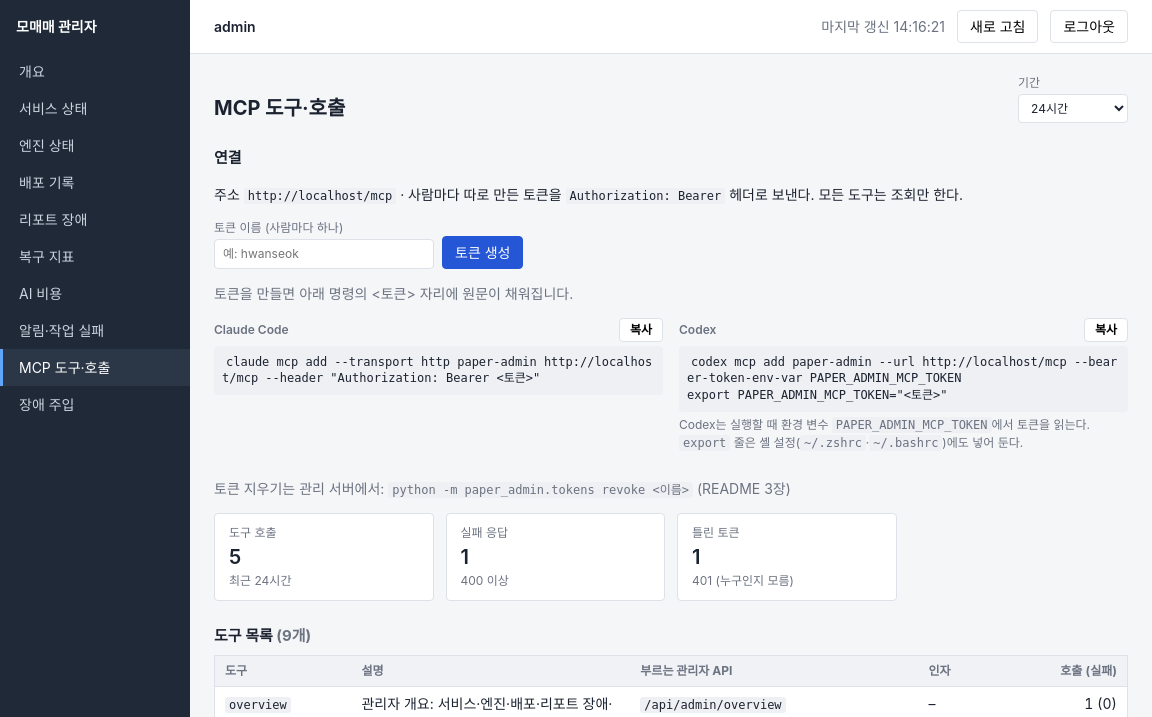
Scenario: MCP 도구·호출 (F10) › 토큰 생성: 원문을 한 번 보이고 Claude·Codex 명령에 채우며, 복사 버튼이 그 명령을 클립보드에 넣는다
Expected: the heading "도구 목록 (9개)" is shown, [214,626,311,645]
Type " newbie " into the field labelled "토큰 이름 (사람마다 하나)" at (324, 254), box [214,238,434,268]
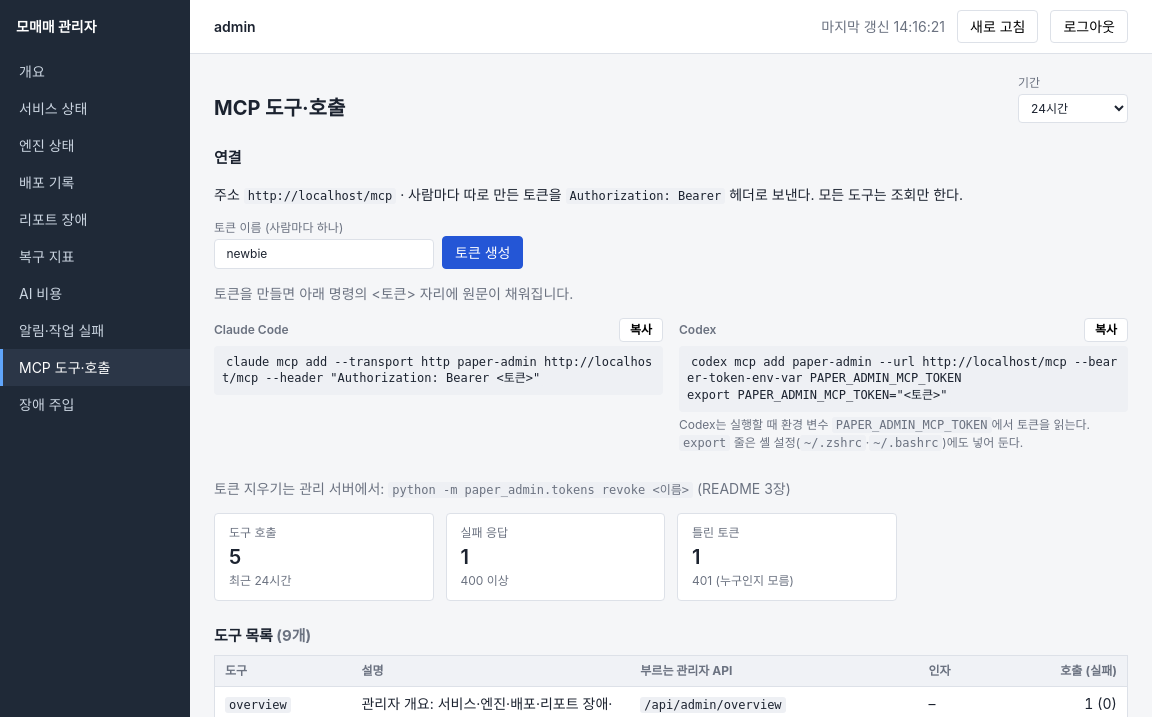
Click the button "토큰 생성" at (483, 252), box [442,236,524,268]
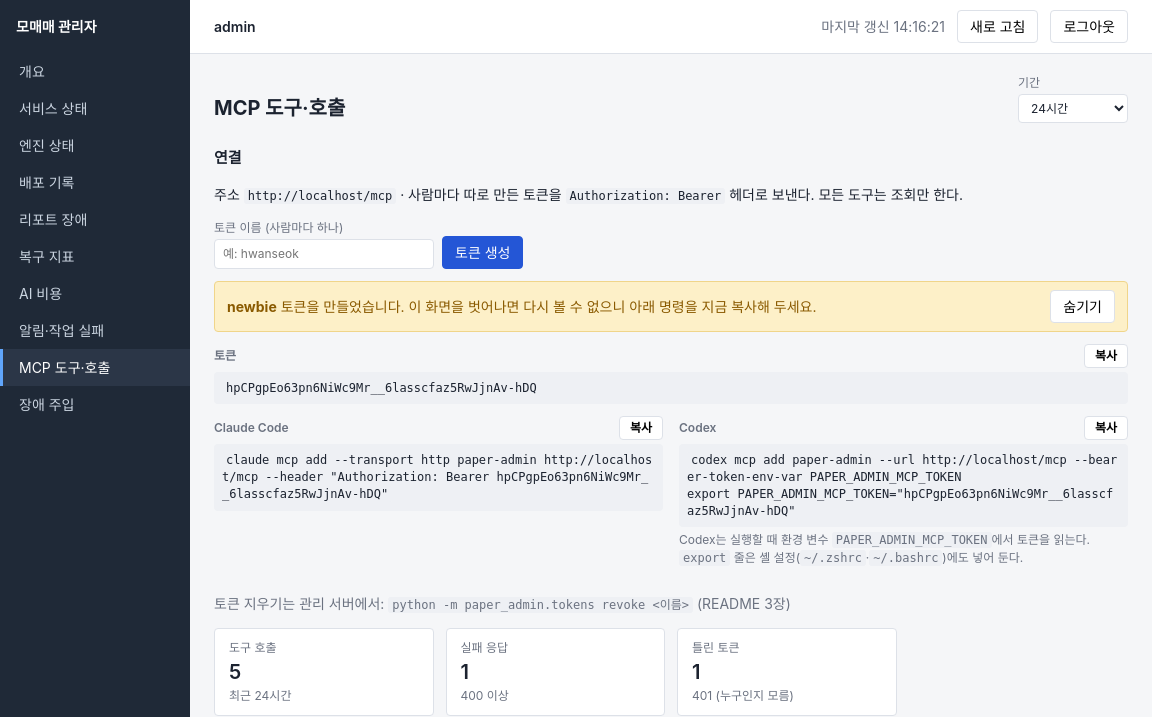
Now the message shows "newbie 토큰을 만들었습니다", box [214,280,1128,332]
Click the button with aria-label "Claude Code 복사" at (641, 428), box [619,416,663,440]
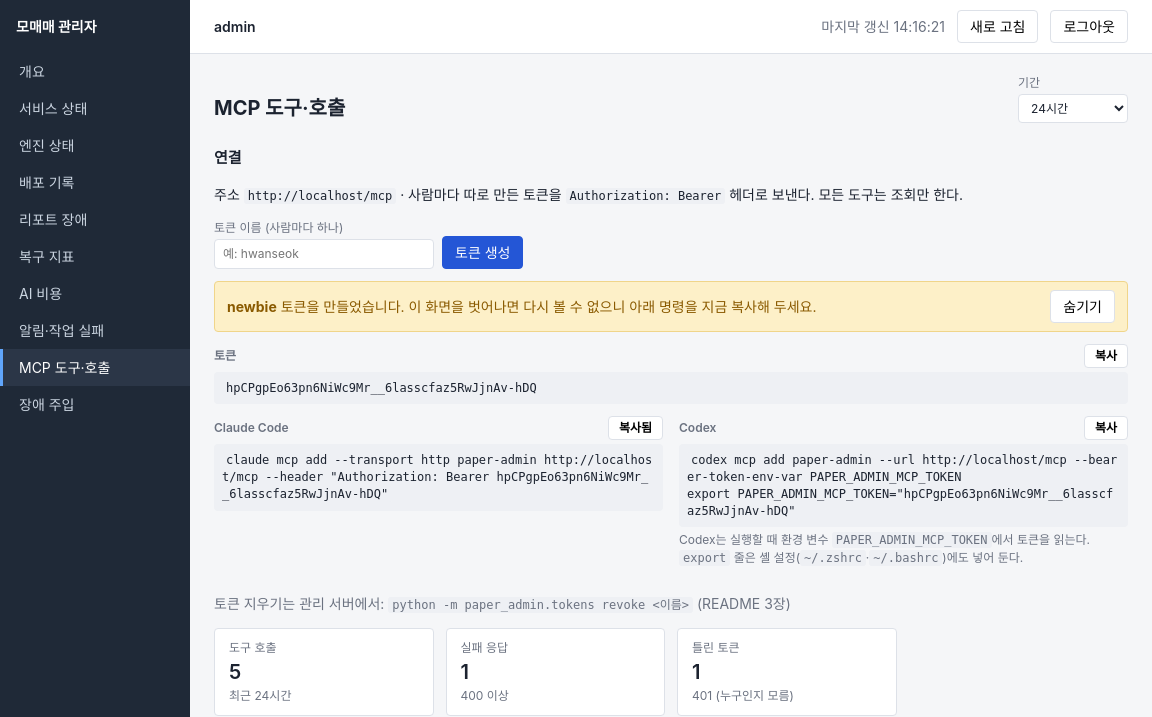
Now the button with aria-label "Claude Code 복사됨" is shown, box [608,416,663,440]
# 기간을 바꿔 조회가 다시 그려져도 방금 만든 원문은 남는다. 숨기면 자리 표시로 돌아간다.
Select "72시간" in the dropdown labelled "기간" at (1073, 108), box [1018,94,1128,123]
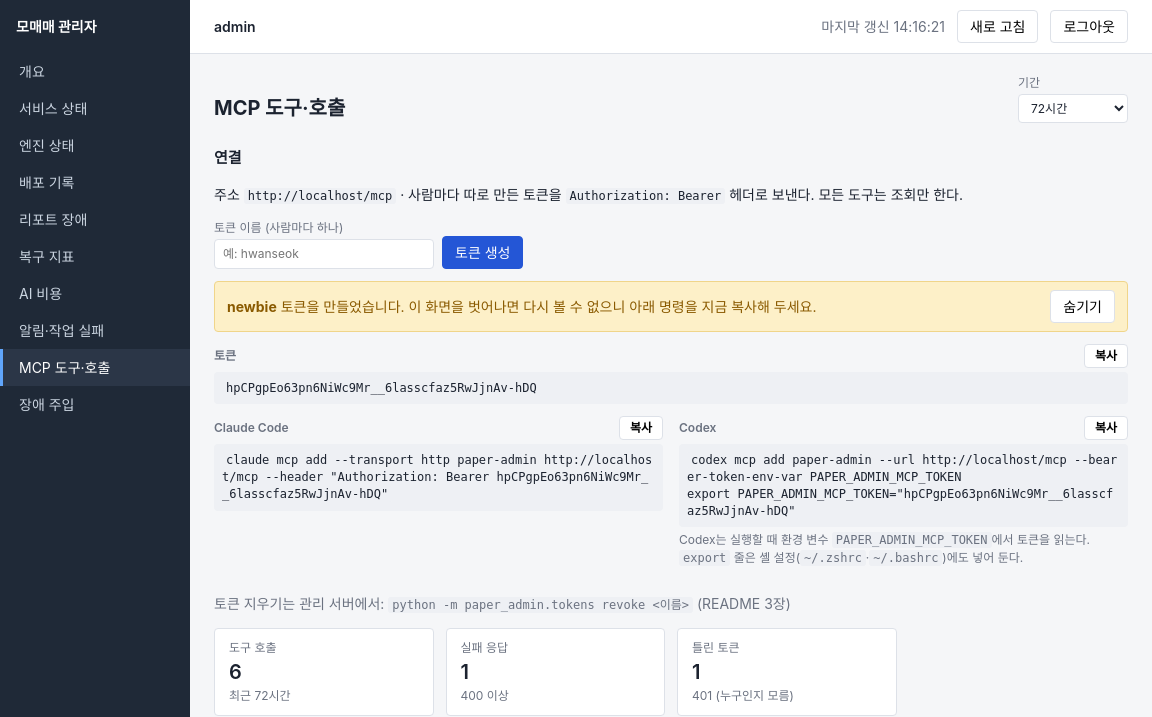
Now the message "newbie 토큰을 만들었습니다. 이 화면을 벗어나면 다시 볼 수 없으니 아래 명령을 지금 복사해 두세요. 숨기기" is shown, box [214,280,1128,332]
Click the button "숨기기" at (1083, 306), box [1050,290,1115,322]
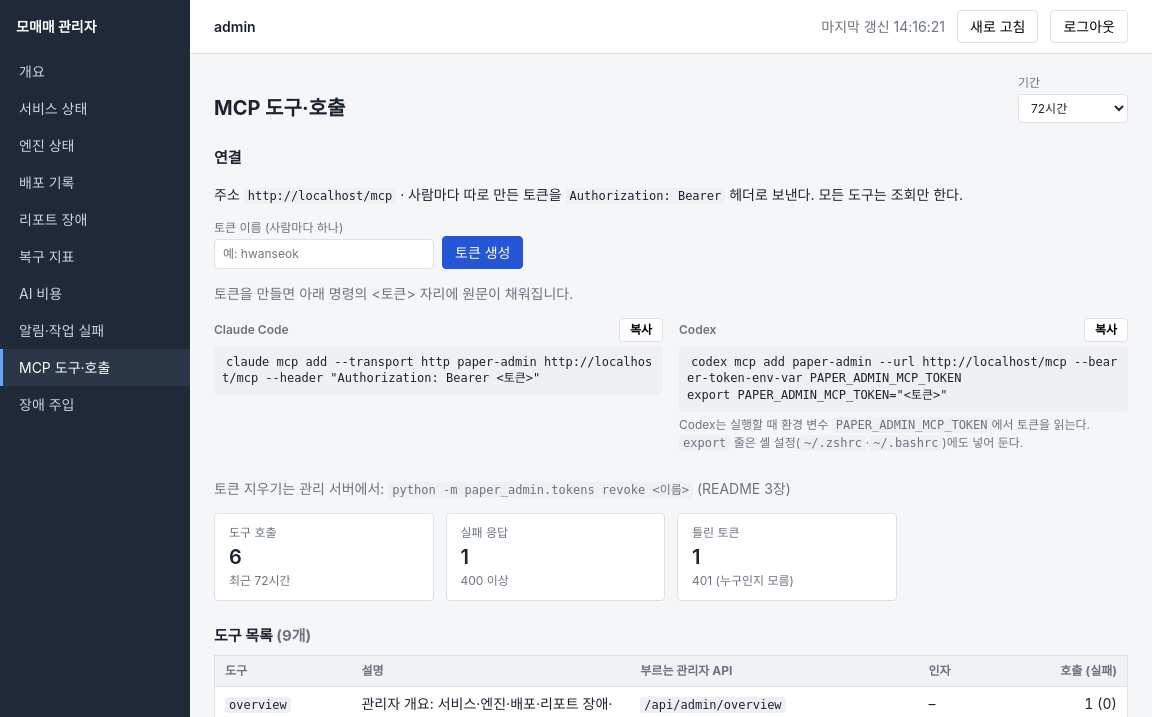
Now the message "newbie 토큰을 만들었습니다. 이 화면을 벗어나면 다시 볼 수 없으니 아래 명령을 지금 복사해 두세요. 숨기기" is gone
